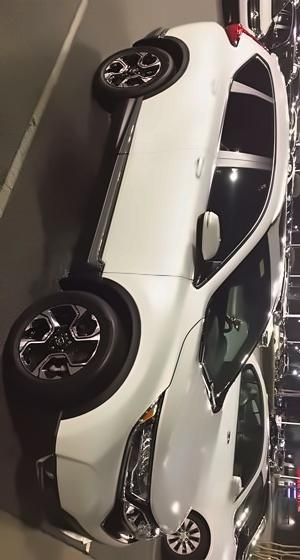Car hood: (148, 313, 228, 542)
Driver-s door - -F-R-: (98, 153, 284, 274)
Fender - -F-R-: (80, 273, 205, 393)
Fender - -R-R-: (158, 35, 250, 77)
Front bumper: (33, 366, 134, 558)
Headlight - -R-: (111, 388, 172, 501)
Passenger-s door - -R-R-: (125, 66, 290, 153)
Rear bumper: (125, 17, 206, 48)
Rear light - -R-: (211, 19, 277, 56)
Side bumper - -R-: (67, 91, 144, 291)
Side mirror - -R-: (191, 207, 237, 275)
